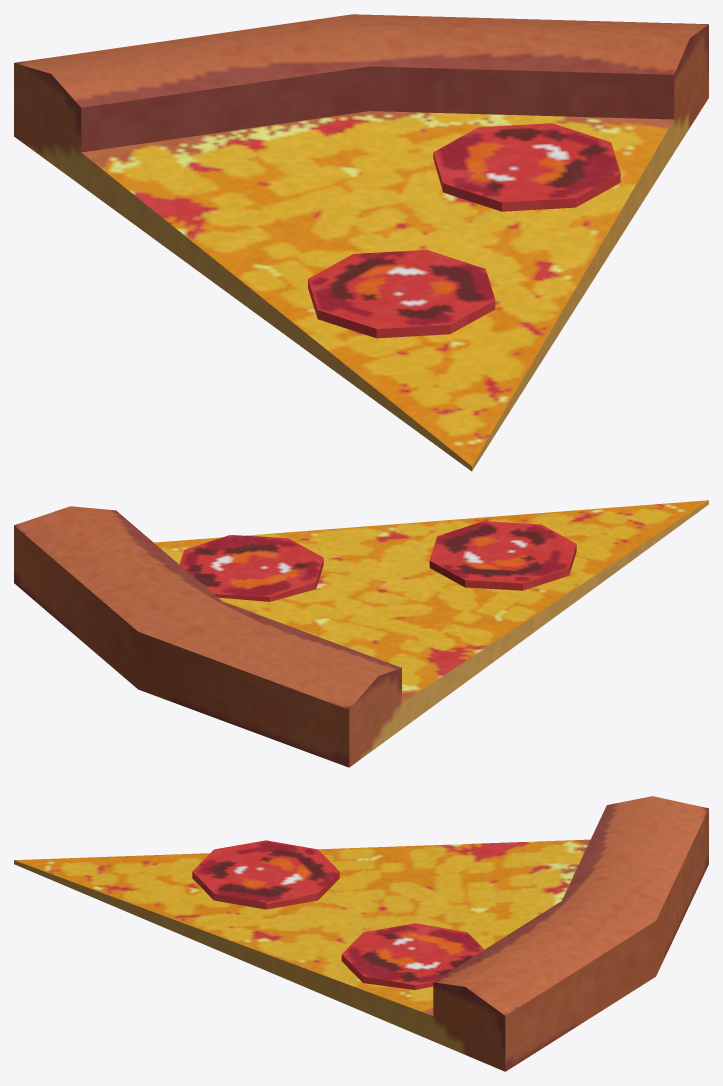
Rendered from Pizza_Cooked 1.fbx.
3 renders of one model, top to bottom at view 1: azimuth 30°, elevation 25°; view 2: azimuth 150°, elevation 25°; view 3: azimuth 270°, elevation 25°, orthographic. The views are drawn at different scales.
Parts seen in each view (by area): view 1: Pizza_Cooked; view 2: Pizza_Cooked; view 3: Pizza_Cooked.
Boxes of the visible parts, <box> form: Pizza_Cooked: <box>14,14,708,471</box>; Pizza_Cooked: <box>14,500,708,767</box>; Pizza_Cooked: <box>14,796,708,1071</box>.
Size of the model in its own units: 52.64 by 8.05 by 74.44.
